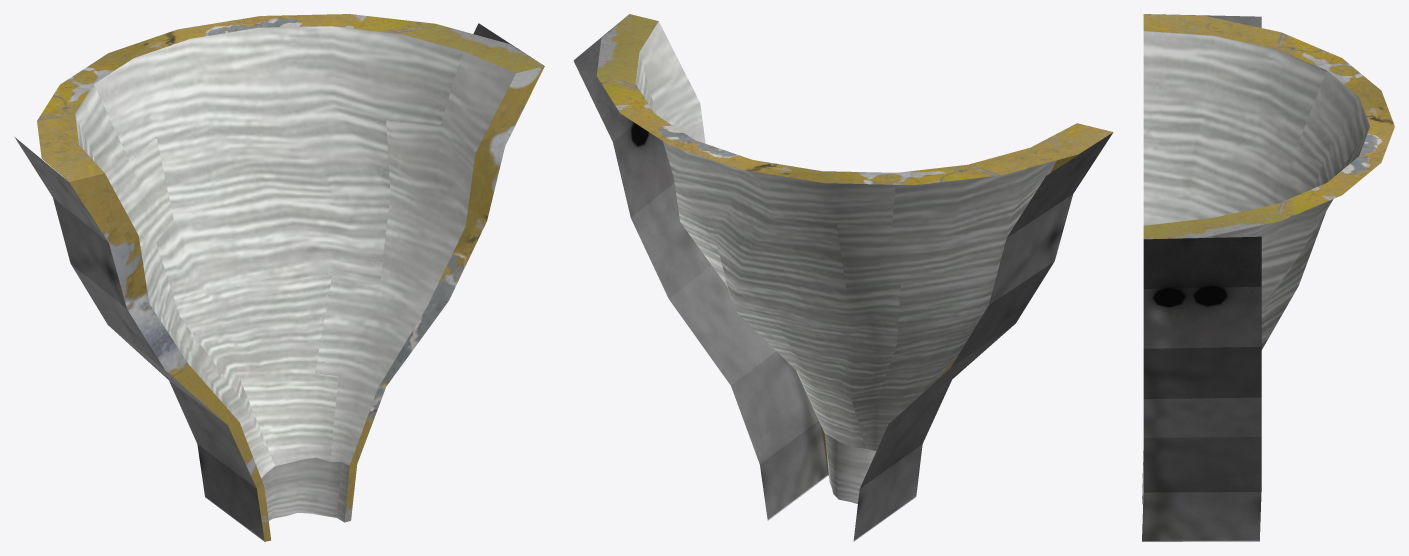
The model's file is petitentonoir1.fbx.
The picture shows the model from 3 angles, left to right: view 1: azimuth 30°, elevation 25°; view 2: azimuth 150°, elevation 25°; view 3: azimuth 270°, elevation 25°; orthographic projection. The views are drawn at different scales.
Visible parts, largest first — view 1: polySurface7; view 2: polySurface7; view 3: polySurface7.
Part boxes in pixels (<box>): polySurface7: <box>14,14,544,541</box>; polySurface7: <box>573,14,1113,541</box>; polySurface7: <box>1142,14,1394,541</box>.
Bounding box in the file's own units: 18.63 × 15.22 × 8.84.
